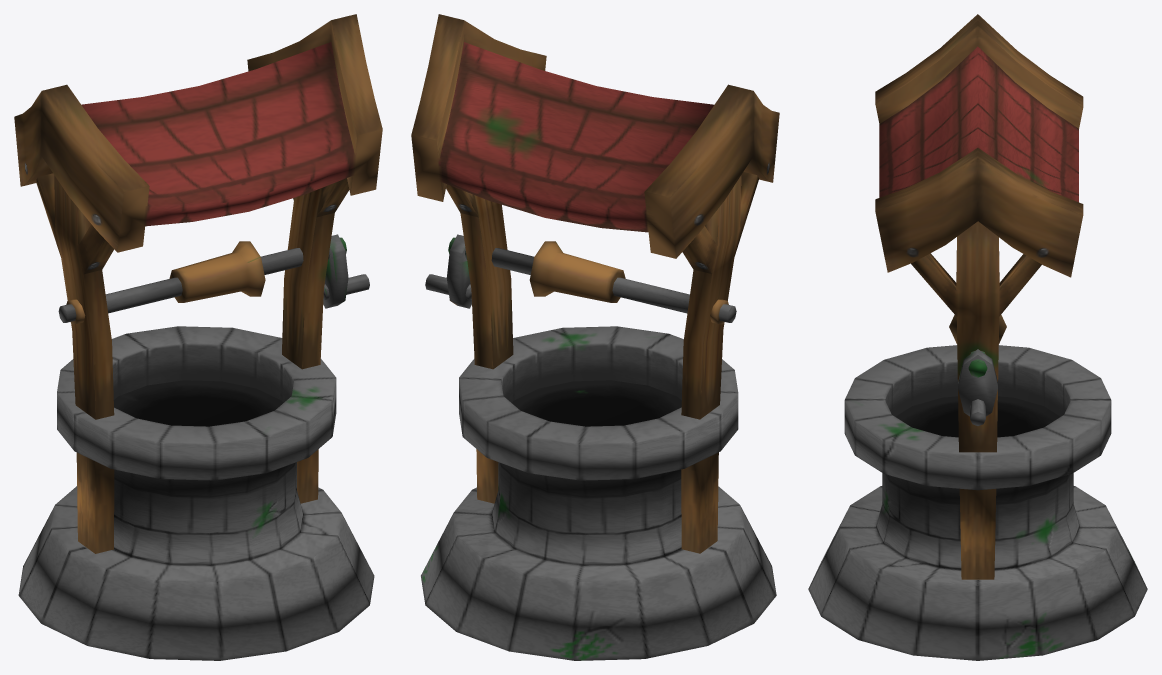
File: sumur.fbx
The picture shows the model from 3 angles, left to right: view 1: azimuth 30°, elevation 25°; view 2: azimuth 150°, elevation 25°; view 3: azimuth 270°, elevation 25°; orthographic projection. The views are drawn at different scales.
Visible parts, largest first — view 1: Cylinder; view 2: Cylinder; view 3: Cylinder.
Part boxes in pixels (<box>): Cylinder: <box>14,14,382,660</box>; Cylinder: <box>411,14,779,660</box>; Cylinder: <box>808,14,1147,660</box>.
Bounding box in the file's own units: 209 × 327 × 200.
